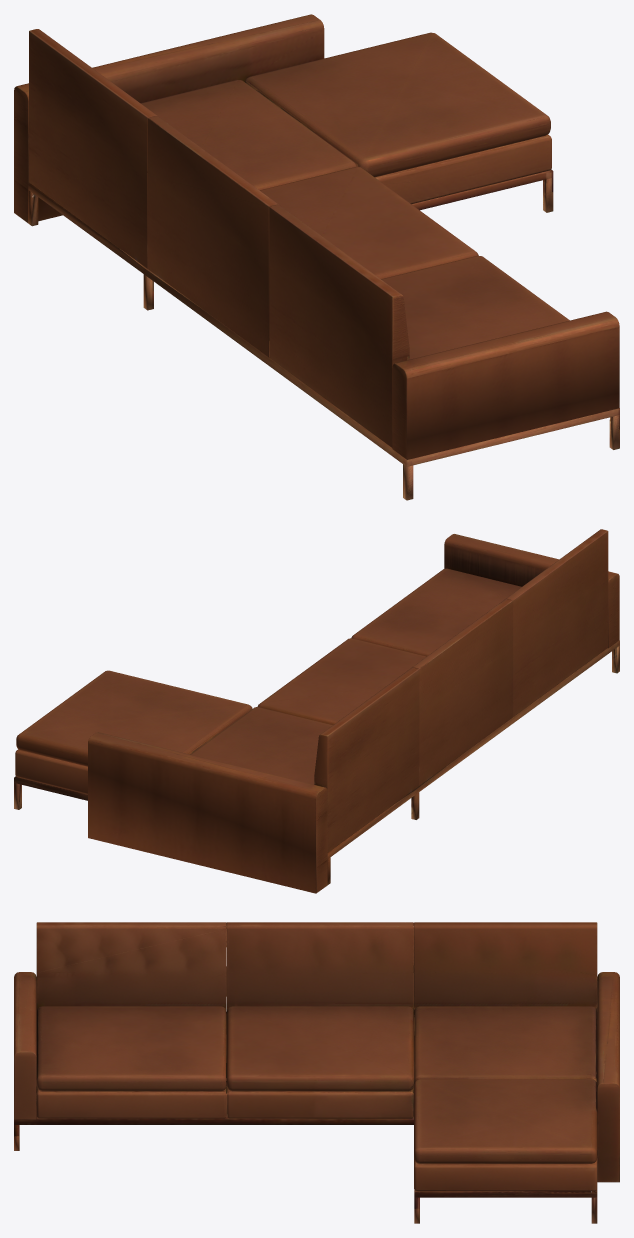
File: Meshy_AI__0501100017_texture.fbx
3 views of the same model, one above another, from view 1: azimuth 30°, elevation 25°; view 2: azimuth 150°, elevation 25°; view 3: azimuth 270°, elevation 25° (orthographic). The views are drawn at different scales.
Parts seen in each view (by area): view 1: Mesh_0; view 2: Mesh_0; view 3: Mesh_0.
Boxes of the visible parts, bbox=[...] form: Mesh_0: bbox=[14, 14, 619, 500]; Mesh_0: bbox=[14, 529, 619, 893]; Mesh_0: bbox=[14, 922, 619, 1223].
Size of the model in its own units: 119 by 54.23 by 200.
1 material, 1 textured.
